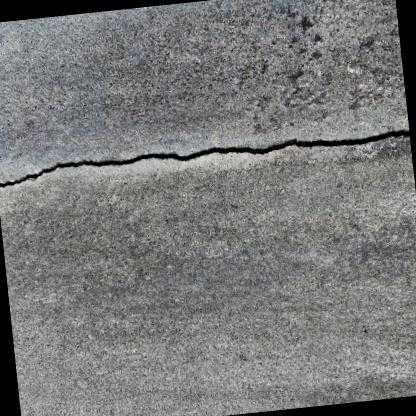crack: (0, 128, 409, 187)
